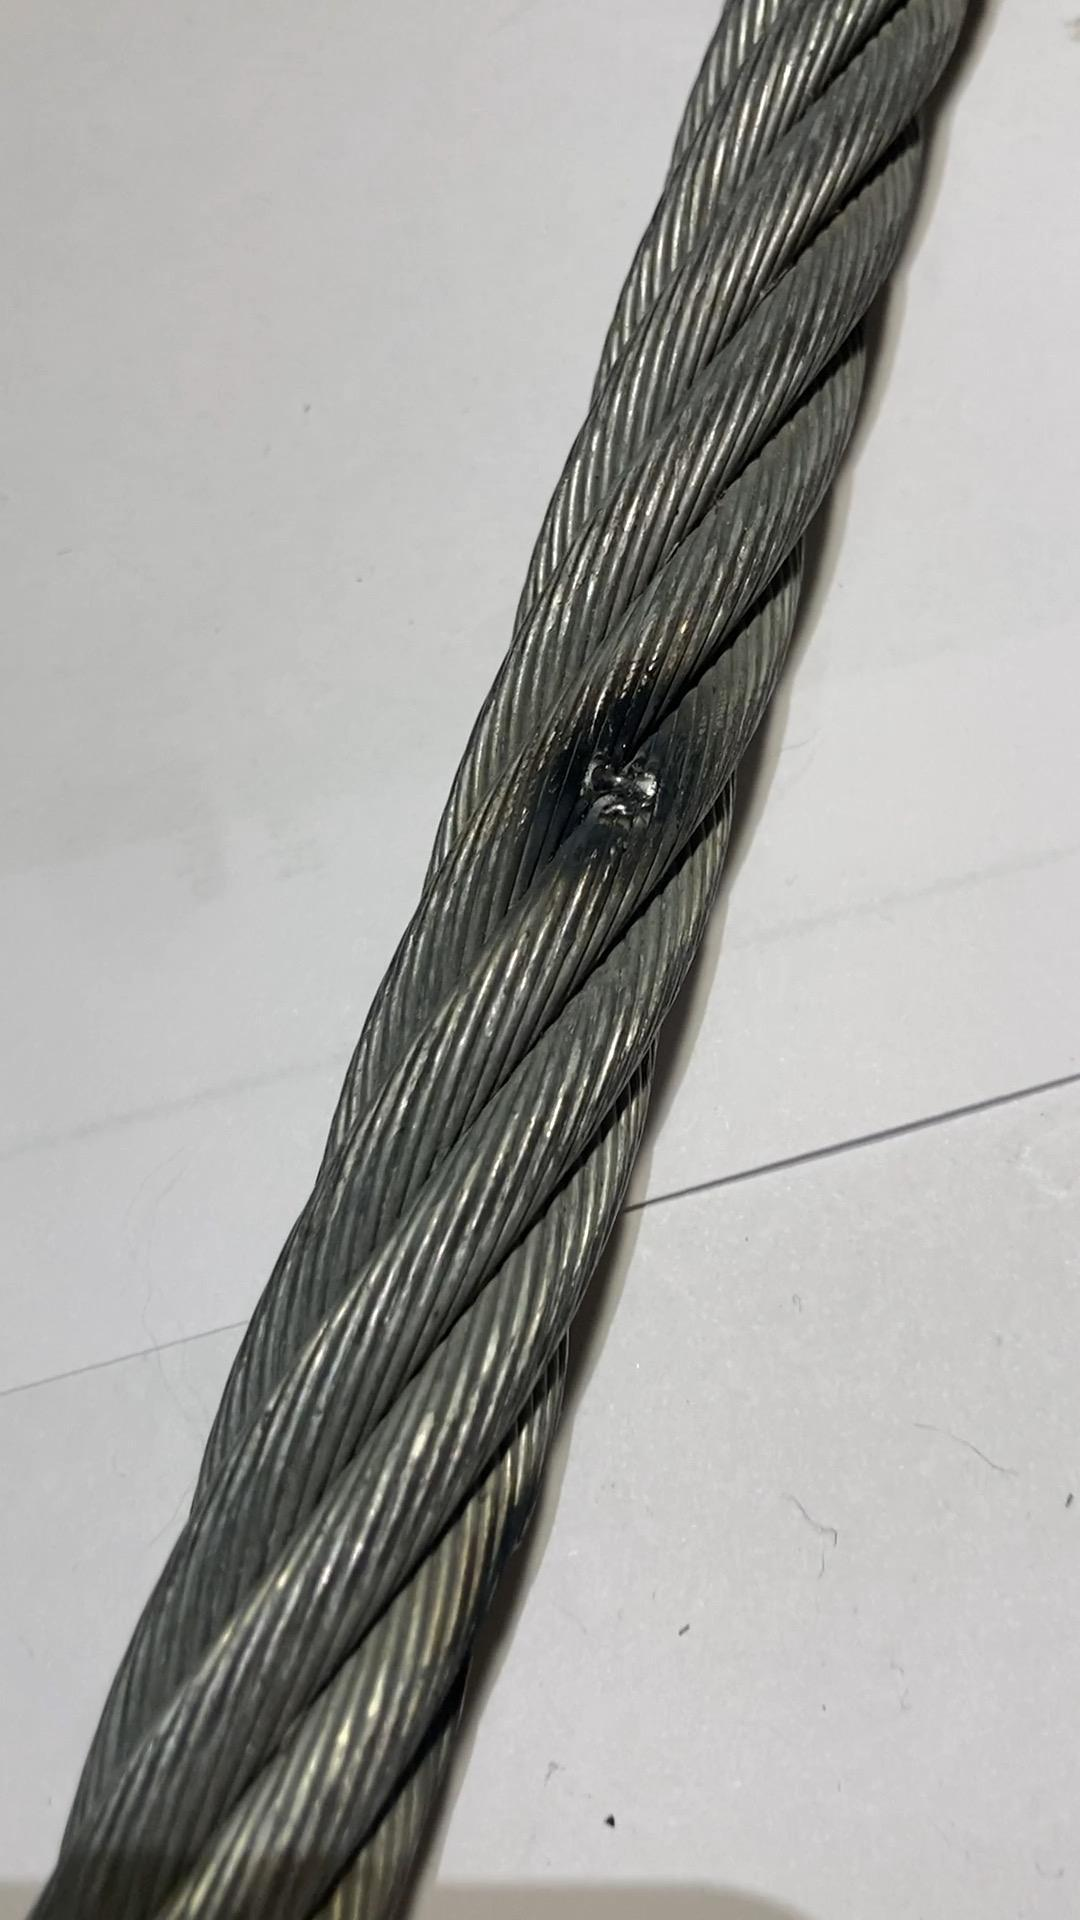thunderbolt: (527, 680, 731, 865)
